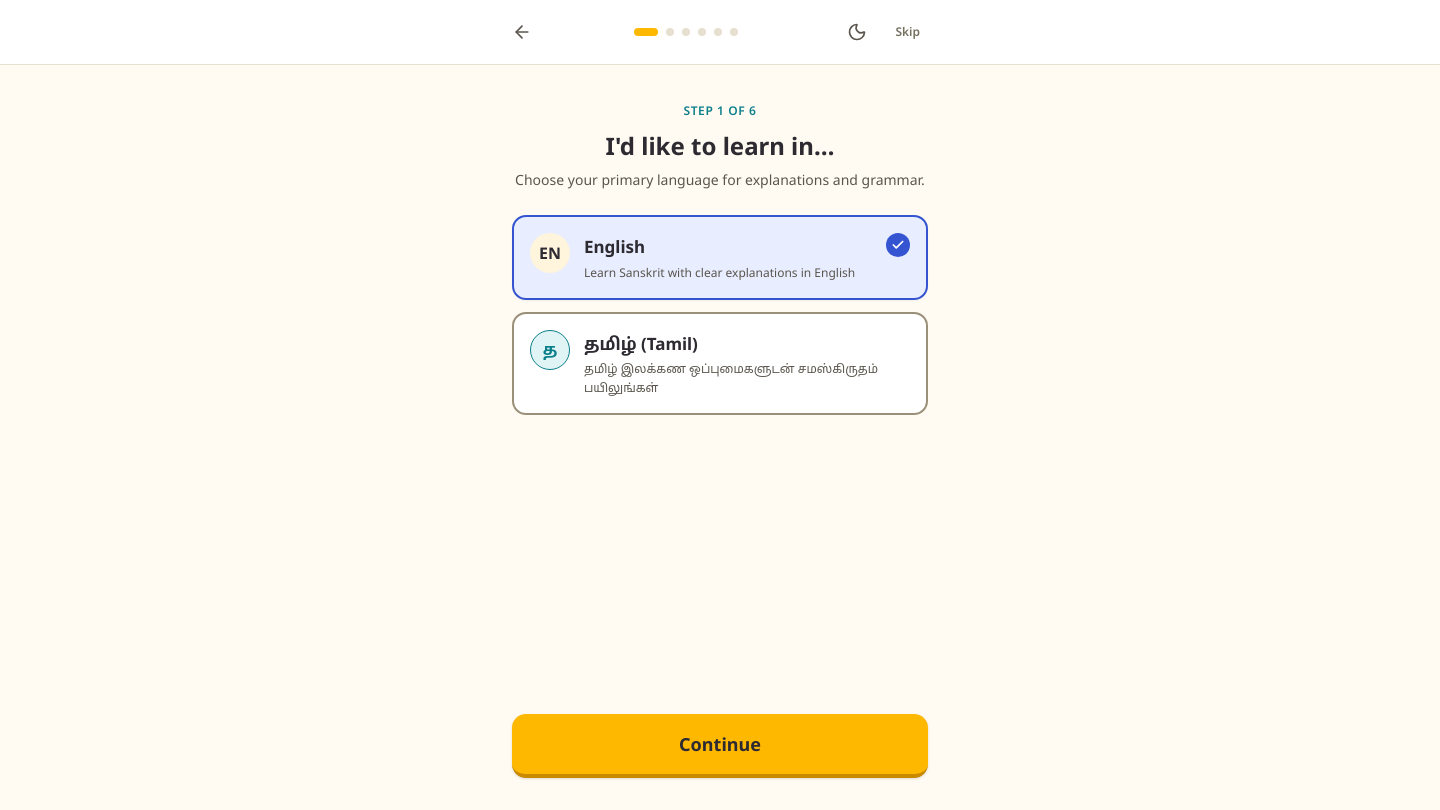
Scenario: Onboarding Flow › allows navigating backward using the Back button
// Move to step 2
Click the button with test id "onboarding-continue-btn" at (720, 746), box [512,714,928,778]
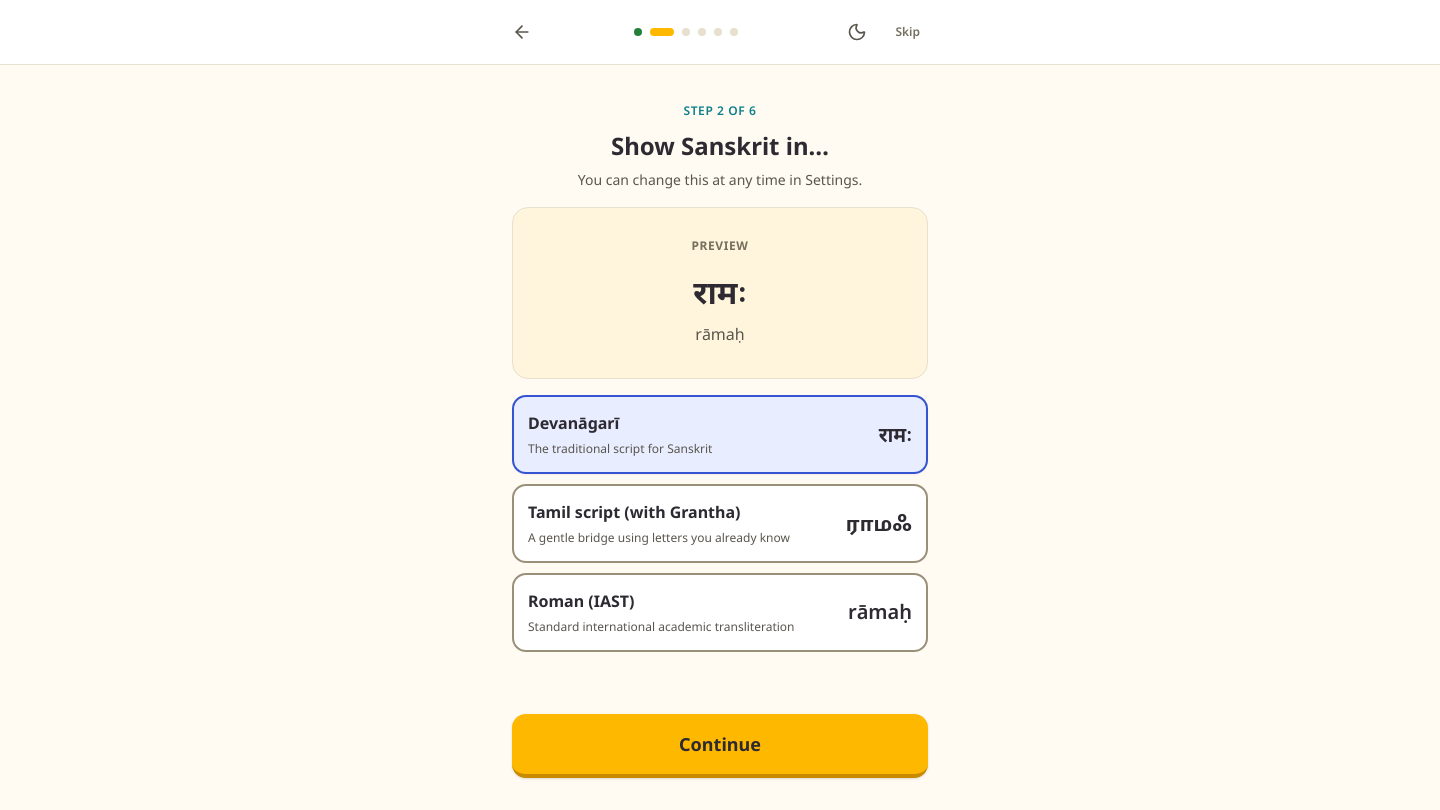
Expected: the button with test id "script-option-devanagari" is shown, [512,395,928,474]
// Click back button
Click the button with test id "onboarding-back-btn" at (522, 32), box [504,14,540,50]
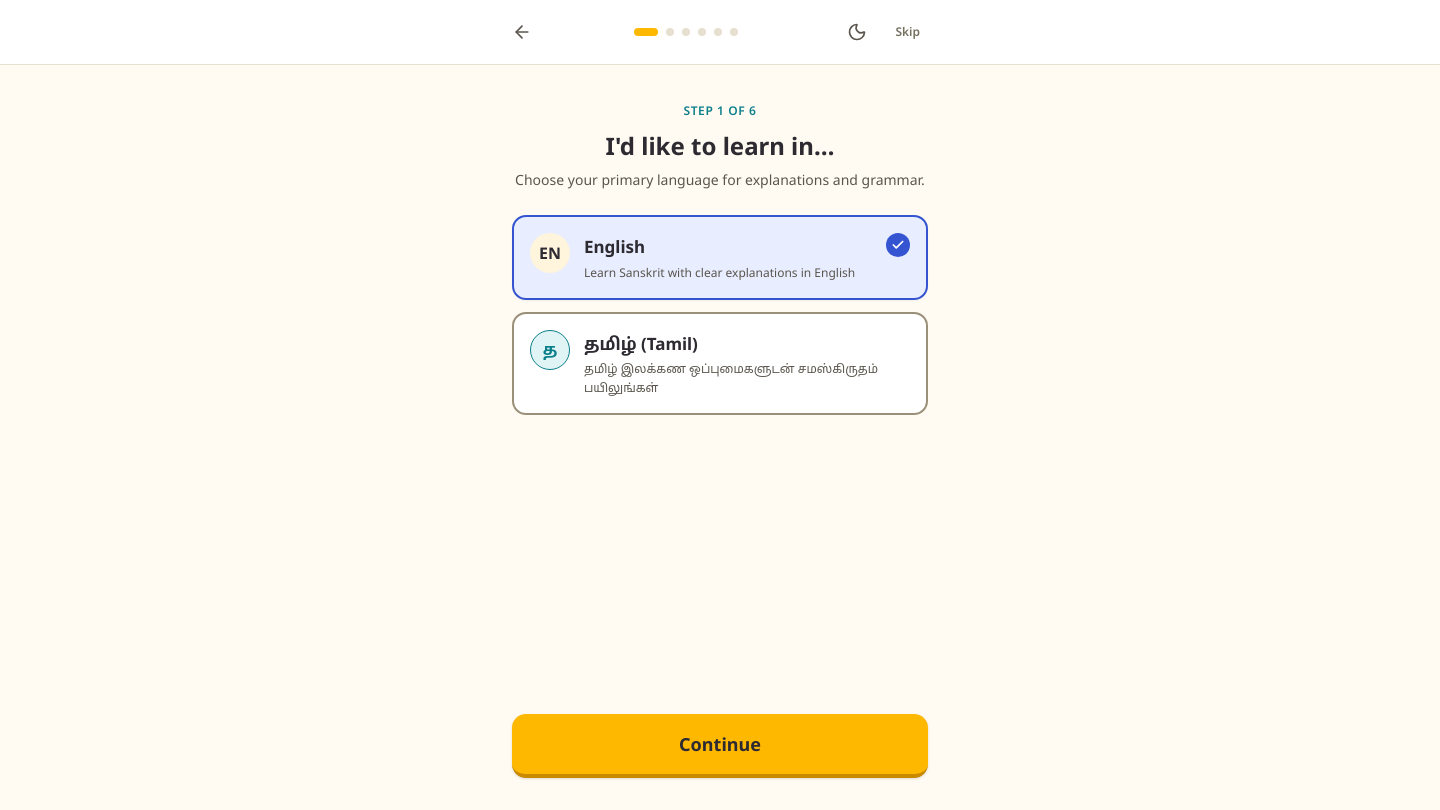
Expected: the button with test id "lang-option-en" is shown, [512,215,928,300]
